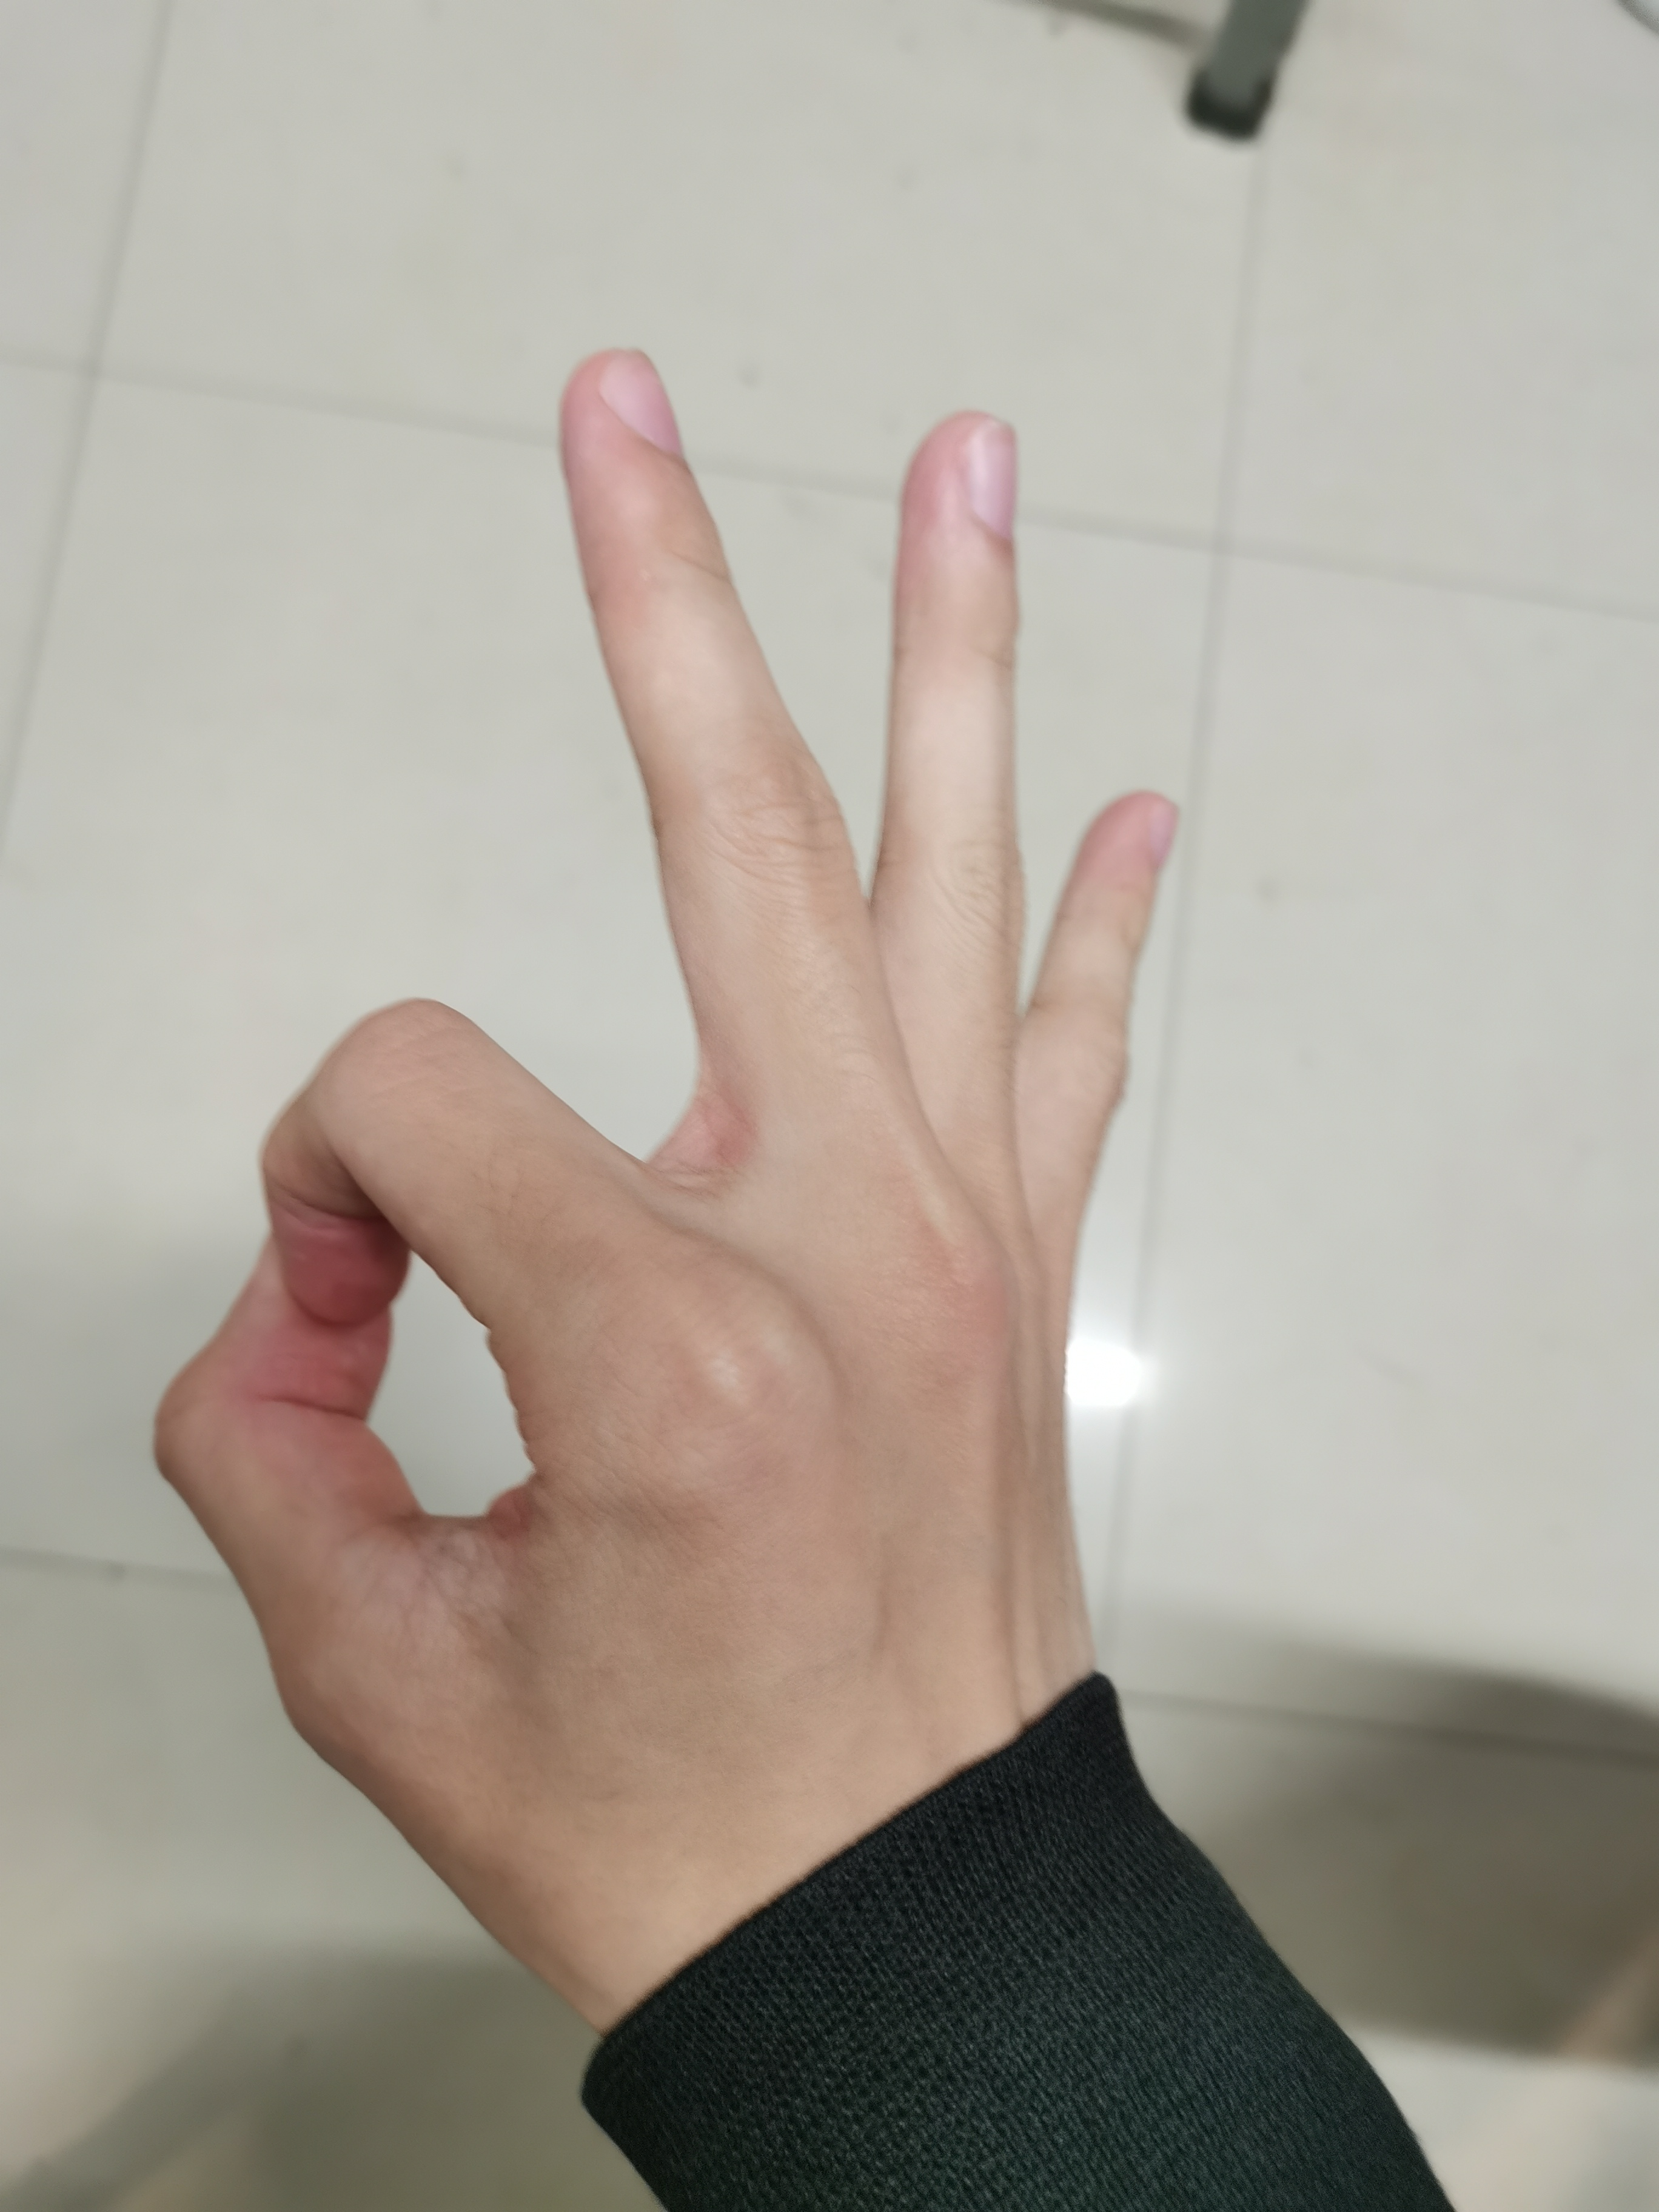no-phone: (122, 282, 1227, 1996)
